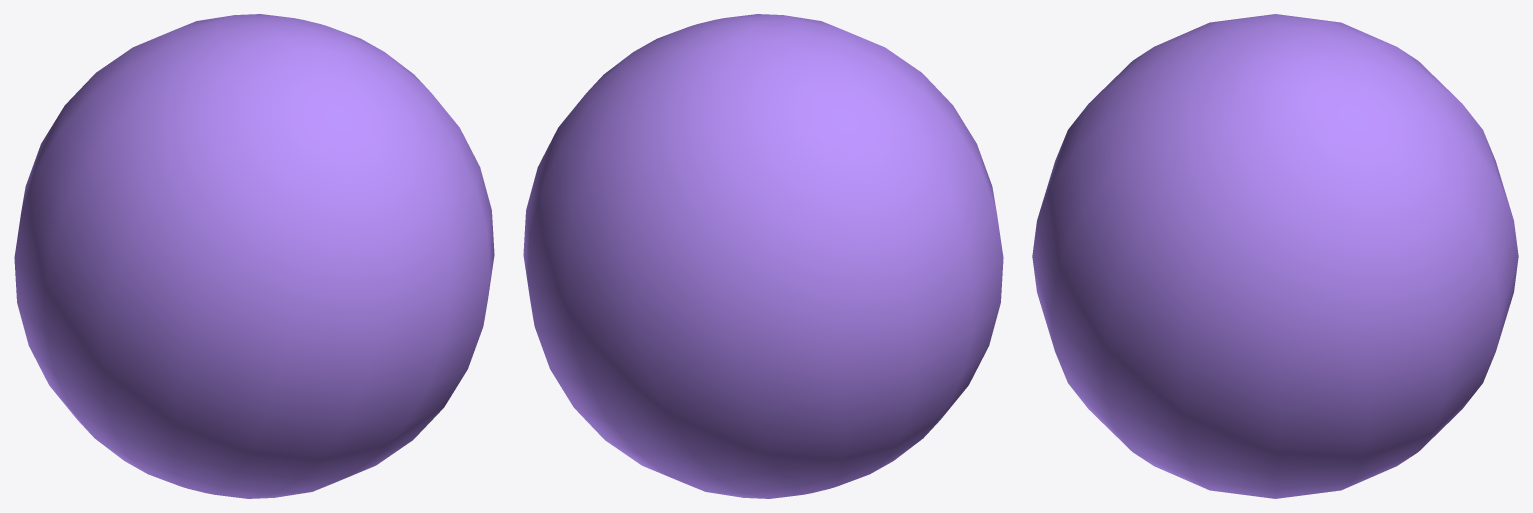
The picture shows the model from 3 angles, left to right: view 1: azimuth 30°, elevation 25°; view 2: azimuth 150°, elevation 25°; view 3: azimuth 270°, elevation 25°; orthographic projection.
Parts seen in each view (by area): view 1: orbinside4.001; view 2: orbinside4.001; view 3: orbinside4.001.
Part boxes in pixels (left/top/right/bottom): orbinside4.001: left=14, top=14, right=494, bottom=498; orbinside4.001: left=523, top=14, right=1003, bottom=498; orbinside4.001: left=1032, top=14, right=1518, bottom=498.
Bounding box in the file's own units: 0.3988 × 0.3988 × 0.4.
